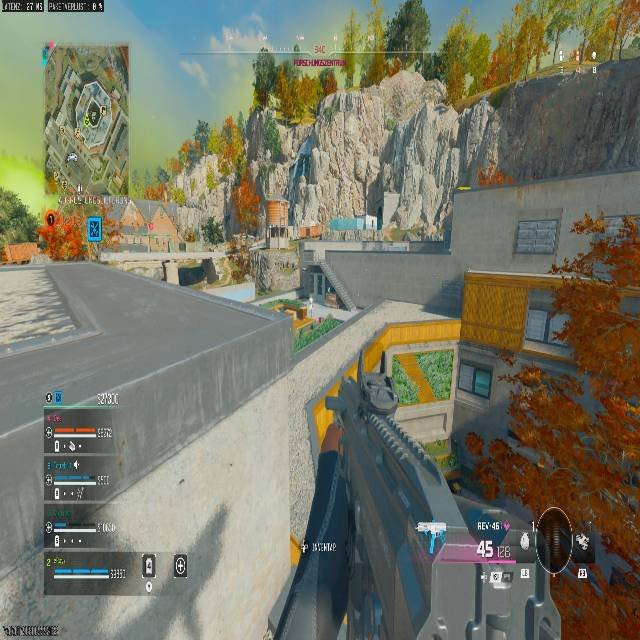player: (36, 209, 69, 260)
